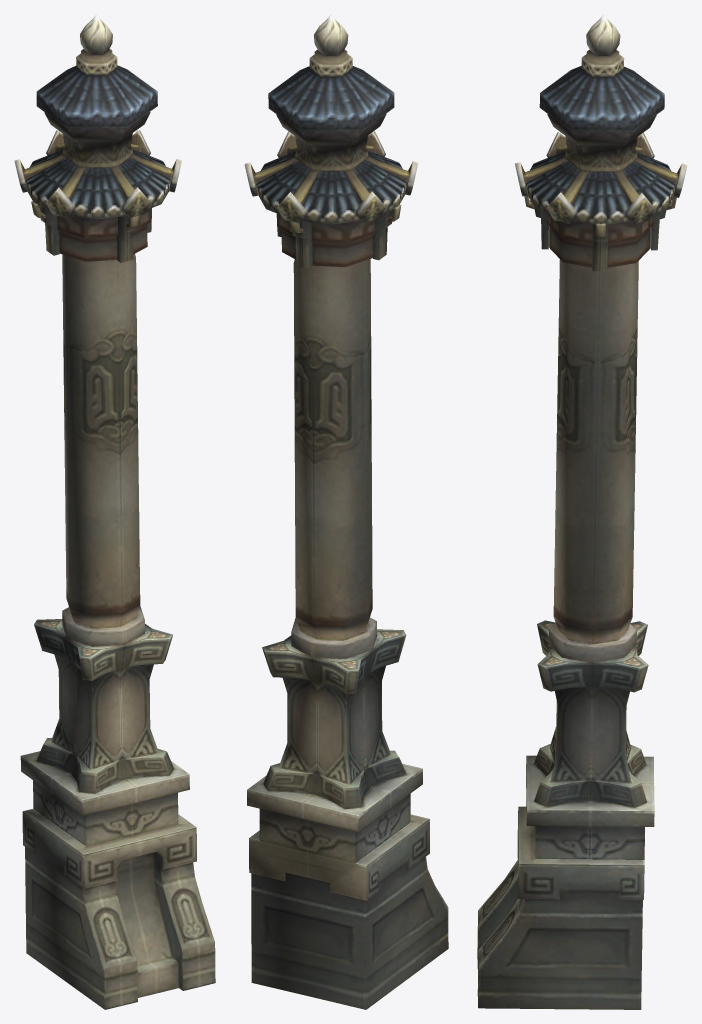
The model's file is S2_Build_XSC022.FBX.
3 views of the same model, side by side, from view 1: azimuth 30°, elevation 25°; view 2: azimuth 150°, elevation 25°; view 3: azimuth 270°, elevation 25° (orthographic). The views are drawn at different scales.
Visible parts, largest first — view 1: S2_Build_XSC022; view 2: S2_Build_XSC022; view 3: S2_Build_XSC022.
Boxes of the visible parts, x1,y1,x2,y2 form: S2_Build_XSC022: [14, 14, 215, 1009]; S2_Build_XSC022: [244, 14, 448, 1009]; S2_Build_XSC022: [477, 14, 687, 1009].
Size of the model in its own units: 165 by 1129 by 222.
